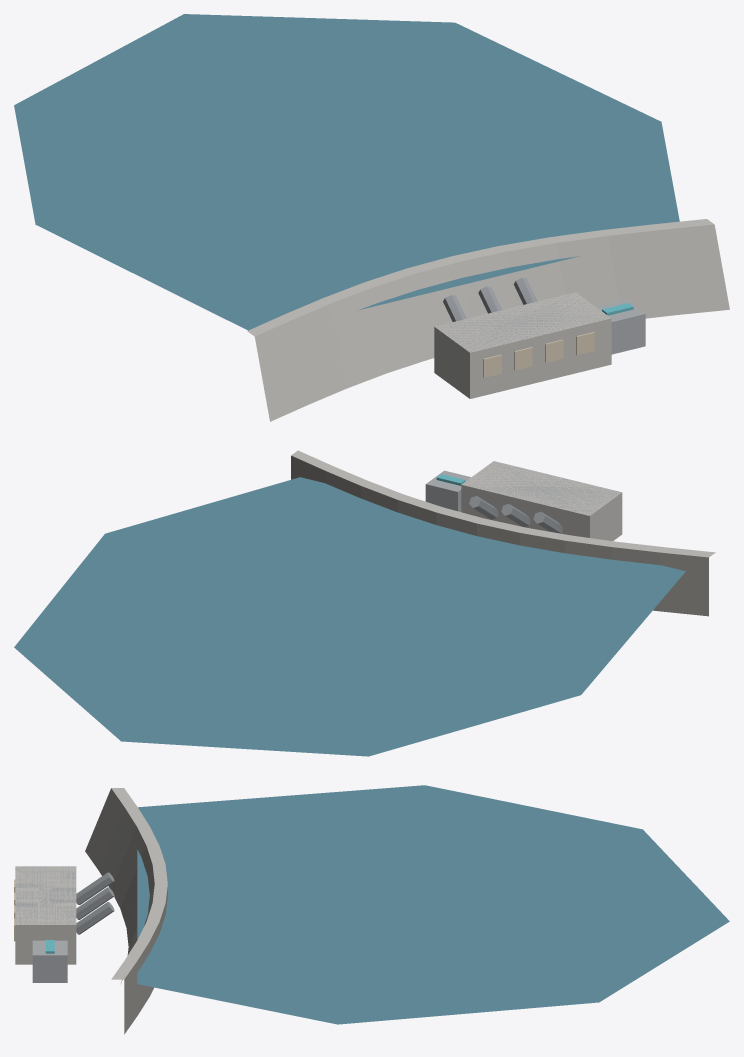
File: plant_hydro_l3.glb
3 views of the same model, one above another, from view 1: azimuth 30°, elevation 25°; view 2: azimuth 150°, elevation 25°; view 3: azimuth 270°, elevation 25° (orthographic). The views are drawn at different scales.
Parts seen in each view (by area): view 1: plant_hydro_l3; view 2: plant_hydro_l3; view 3: plant_hydro_l3.
Part boxes in pixels (x1,y1,x2,y2): plant_hydro_l3: [14, 14, 729, 421]; plant_hydro_l3: [14, 450, 715, 756]; plant_hydro_l3: [14, 785, 729, 1034].
Size of the model in its own units: 130 by 16 by 164.
